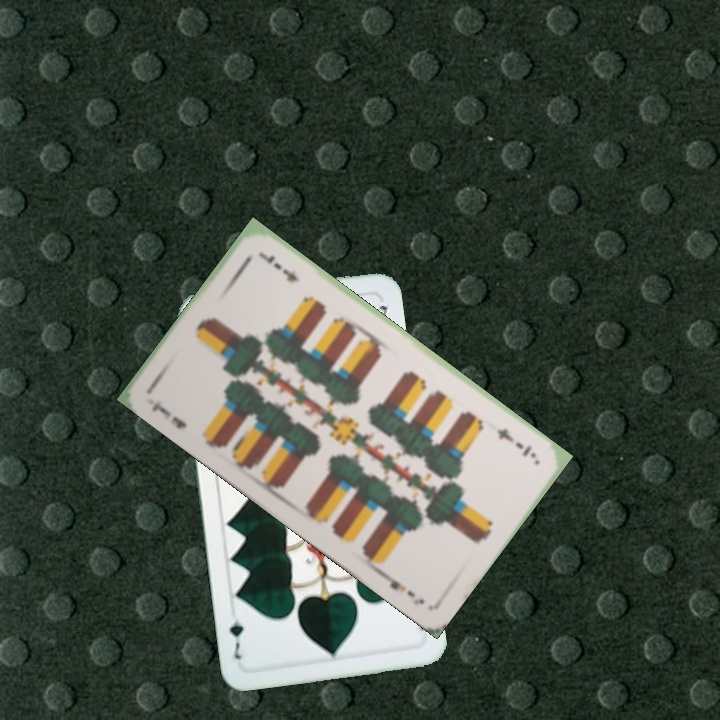E7: (492, 424, 539, 461), (147, 396, 189, 431)
